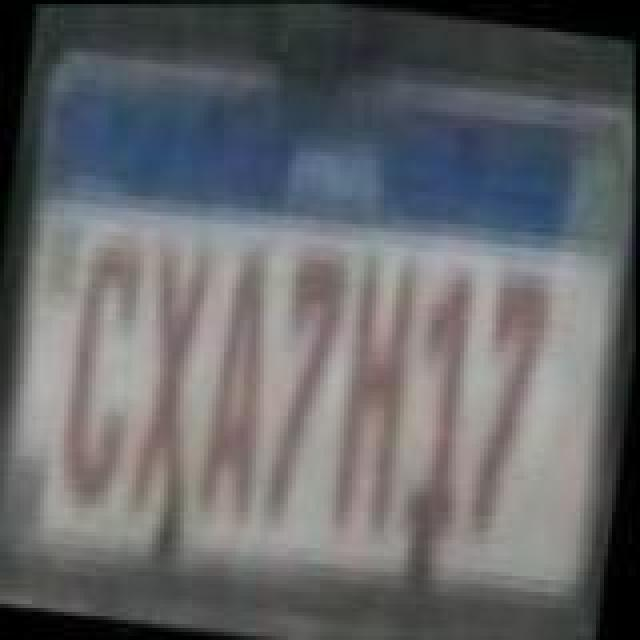1: (394, 258, 498, 542)
7: (258, 246, 362, 526), (458, 264, 562, 540)
A: (186, 248, 290, 536)
C: (46, 232, 154, 504)
H: (326, 246, 438, 538)
X: (120, 240, 224, 520)
